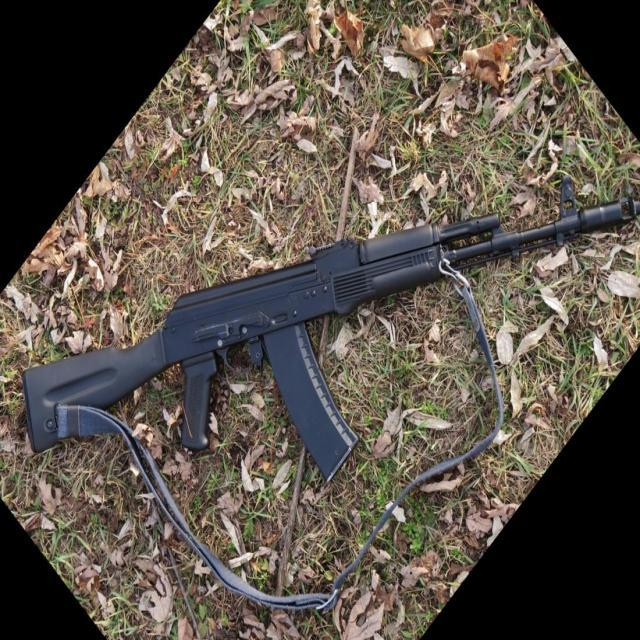weapon: (21, 176, 640, 483)
